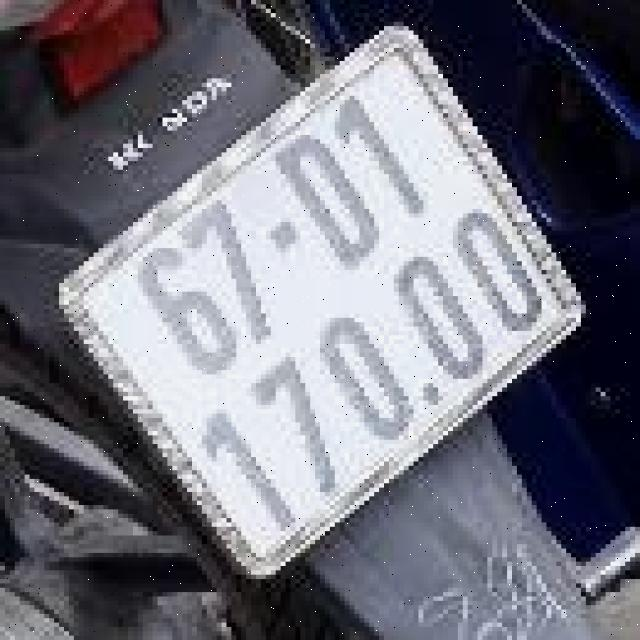0: (378, 243, 508, 396), (300, 302, 427, 455), (440, 198, 558, 343)
1: (180, 402, 314, 548), (321, 84, 445, 231)
6: (119, 235, 253, 390)
7: (172, 193, 307, 355), (234, 349, 369, 504)
D: (265, 119, 399, 277)
